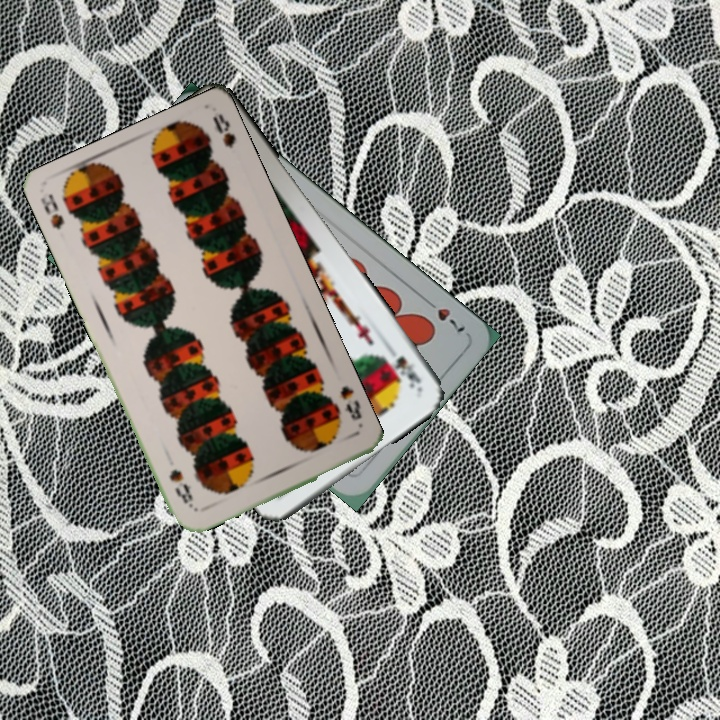H7: (420, 294, 468, 335)
S8: (36, 189, 67, 232), (336, 381, 365, 423)
SK: (390, 351, 424, 392)
